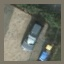car: (20, 21, 44, 52)
